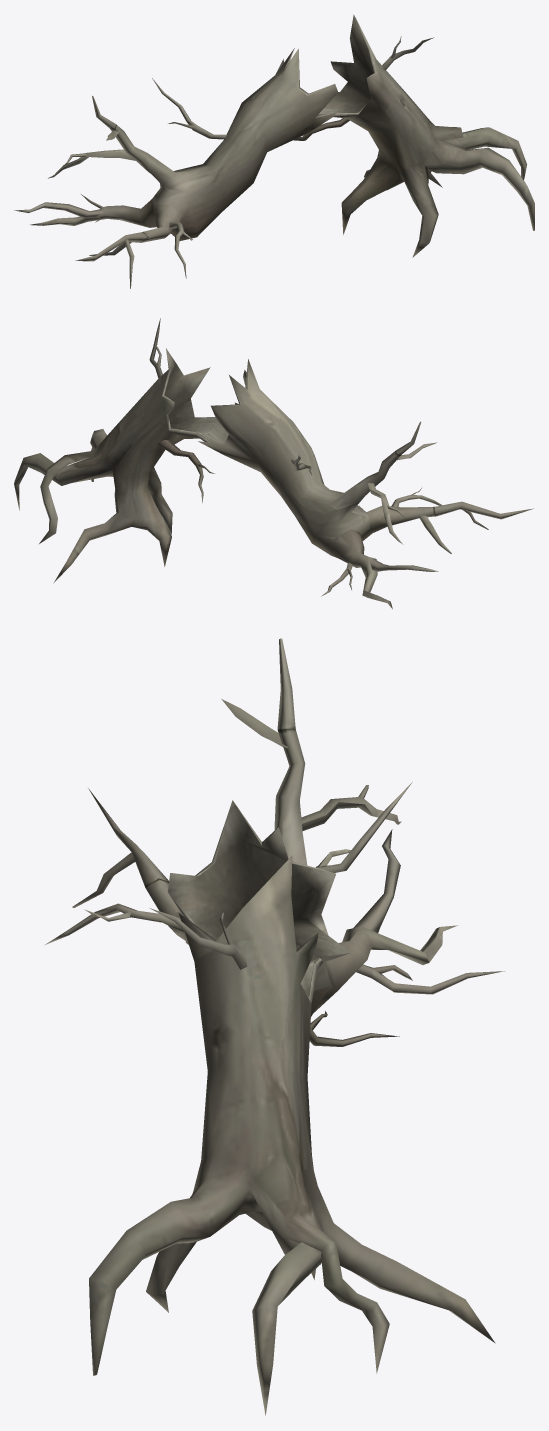
Rendered from DN_lv2_kushu03_hero.FBX.
3 views of the same model, one above another, from view 1: azimuth 30°, elevation 25°; view 2: azimuth 150°, elevation 25°; view 3: azimuth 270°, elevation 25° (orthographic). The views are drawn at different scales.
Visible parts, largest first — view 1: DN_lv2_kushu03_hero; view 2: DN_lv2_kushu03_hero; view 3: DN_lv2_kushu03_hero.
Boxes of the visible parts, x1,y1,x2,y2 form: DN_lv2_kushu03_hero: (14, 14, 534, 288); DN_lv2_kushu03_hero: (14, 318, 533, 609); DN_lv2_kushu03_hero: (45, 638, 504, 1415).
Size of the model in its own units: 1428 by 621 by 601.
